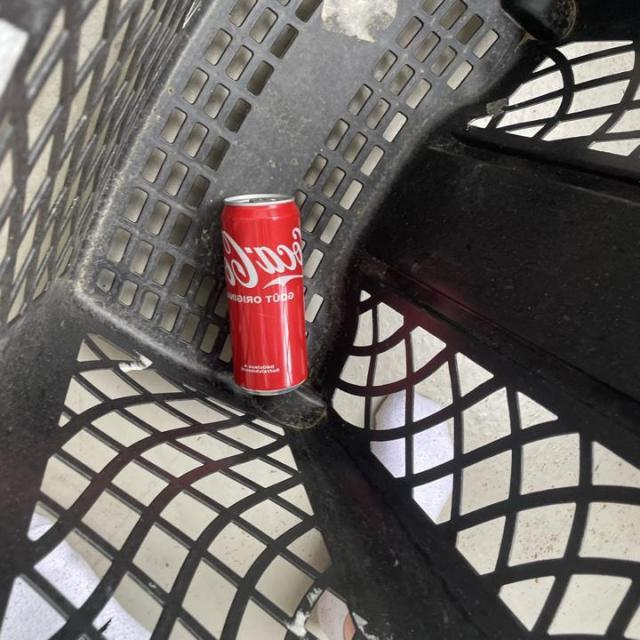can: (223, 186, 308, 410)
